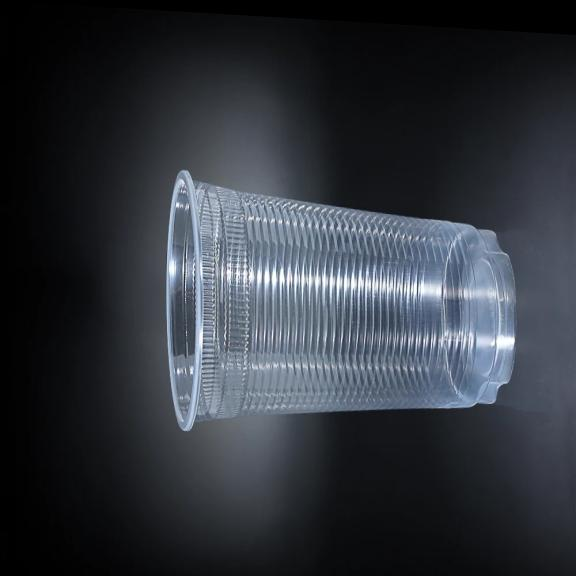Plastik: (167, 170, 514, 428)
